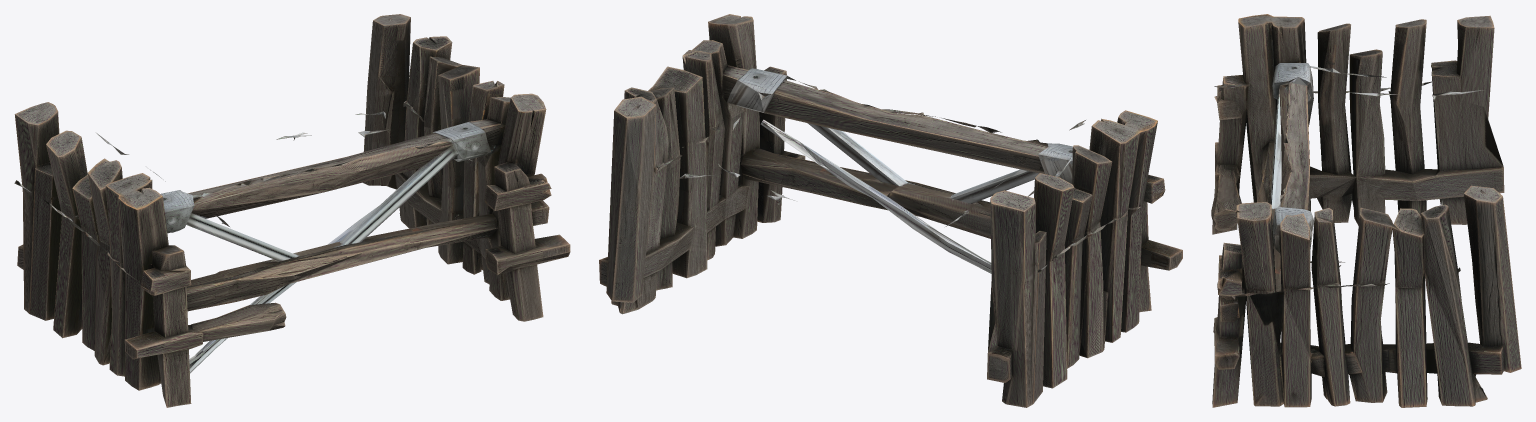
3 views of the same model, side by side, from view 1: azimuth 30°, elevation 25°; view 2: azimuth 150°, elevation 25°; view 3: azimuth 270°, elevation 25° (orthographic). The views are drawn at different scales.
Bounding box in the file's own units: 1.9 × 0.8652 × 1.17.
Materials: 1 (1 with a texture image).
